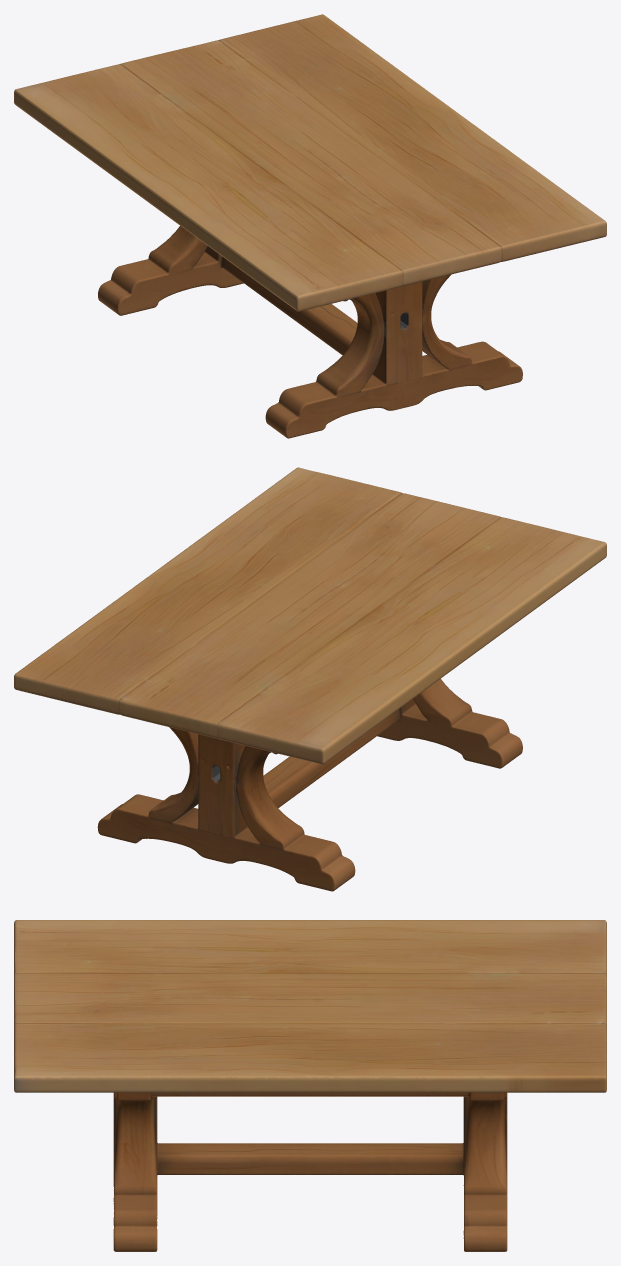
Rendered from detailed_realistic_model_grandoaktable_17.glb.
The picture shows the model from 3 angles, top to bottom: view 1: azimuth 30°, elevation 25°; view 2: azimuth 150°, elevation 25°; view 3: azimuth 270°, elevation 25°; orthographic projection. The views are drawn at different scales.
Visible parts, largest first — view 1: tripo_node_3f4319a0-097d-4603-9aa3-f65692ec9671; view 2: tripo_node_3f4319a0-097d-4603-9aa3-f65692ec9671; view 3: tripo_node_3f4319a0-097d-4603-9aa3-f65692ec9671.
Part boxes in pixels (<box>): tripo_node_3f4319a0-097d-4603-9aa3-f65692ec9671: <box>14,14,606,438</box>; tripo_node_3f4319a0-097d-4603-9aa3-f65692ec9671: <box>14,467,606,891</box>; tripo_node_3f4319a0-097d-4603-9aa3-f65692ec9671: <box>14,920,606,1251</box>.
Size of the model in its own units: 0.6306 by 0.3627 by 1.
1 material, 1 textured.
